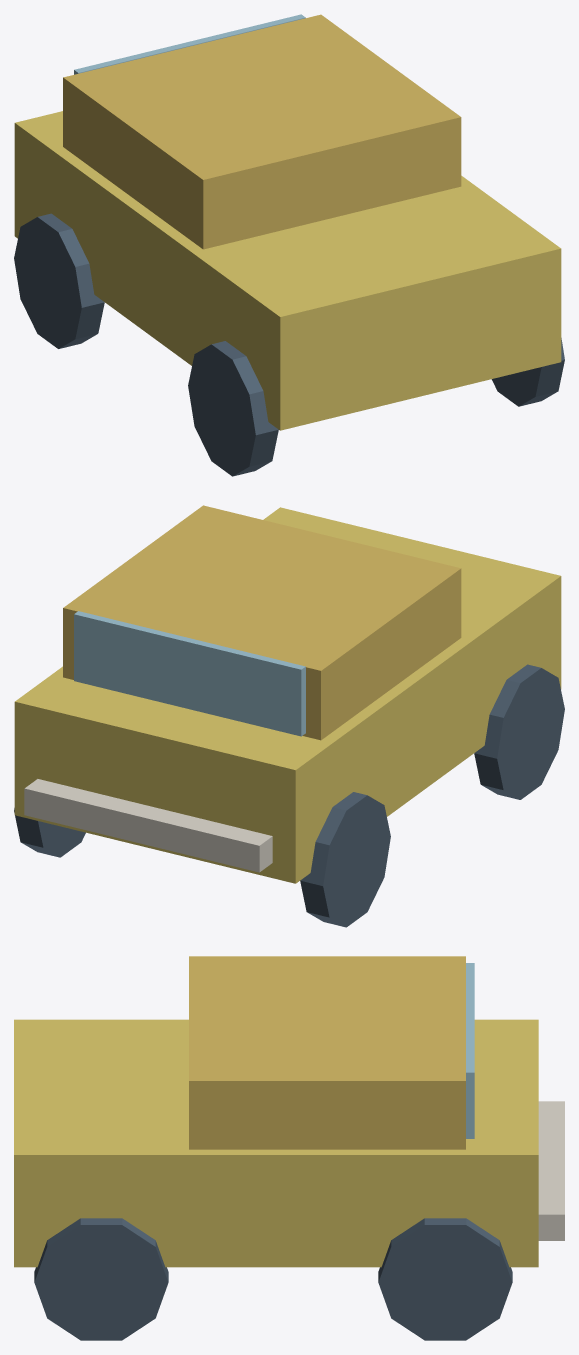
File: Van.glb
The picture shows the model from 3 angles, top to bottom: view 1: azimuth 30°, elevation 25°; view 2: azimuth 150°, elevation 25°; view 3: azimuth 270°, elevation 25°; orthographic projection.
Visible parts, largest first — view 1: Part_00, Part_01, Part_05, Part_04, Part_07, Part_02; view 2: Part_00, Part_01, Part_02, Part_03, Part_04, Part_05, Part_06; view 3: Part_00, Part_01, Part_06, Part_07, Part_03, Part_02.
Part boxes in pixels (x1,y1,x2,y2): Part_00: [14, 111, 561, 430]; Part_01: [63, 14, 461, 249]; Part_05: [188, 341, 278, 476]; Part_04: [14, 213, 104, 348]; Part_07: [491, 338, 564, 406]; Part_02: [74, 14, 305, 74]; Part_00: [14, 507, 561, 883]; Part_01: [63, 505, 461, 740]; Part_02: [74, 611, 305, 736]; Part_03: [24, 779, 272, 872]; Part_04: [300, 792, 390, 927]; Part_05: [474, 664, 564, 799]; Part_06: [14, 808, 85, 857]; Part_00: [14, 1019, 538, 1267]; Part_01: [189, 956, 465, 1149]; Part_06: [378, 1218, 512, 1340]; Part_07: [34, 1218, 168, 1340]; Part_03: [538, 1101, 564, 1240]; Part_02: [466, 963, 474, 1138].
Size of the model in its own units: 2.42 by 1.88 by 3.78.
